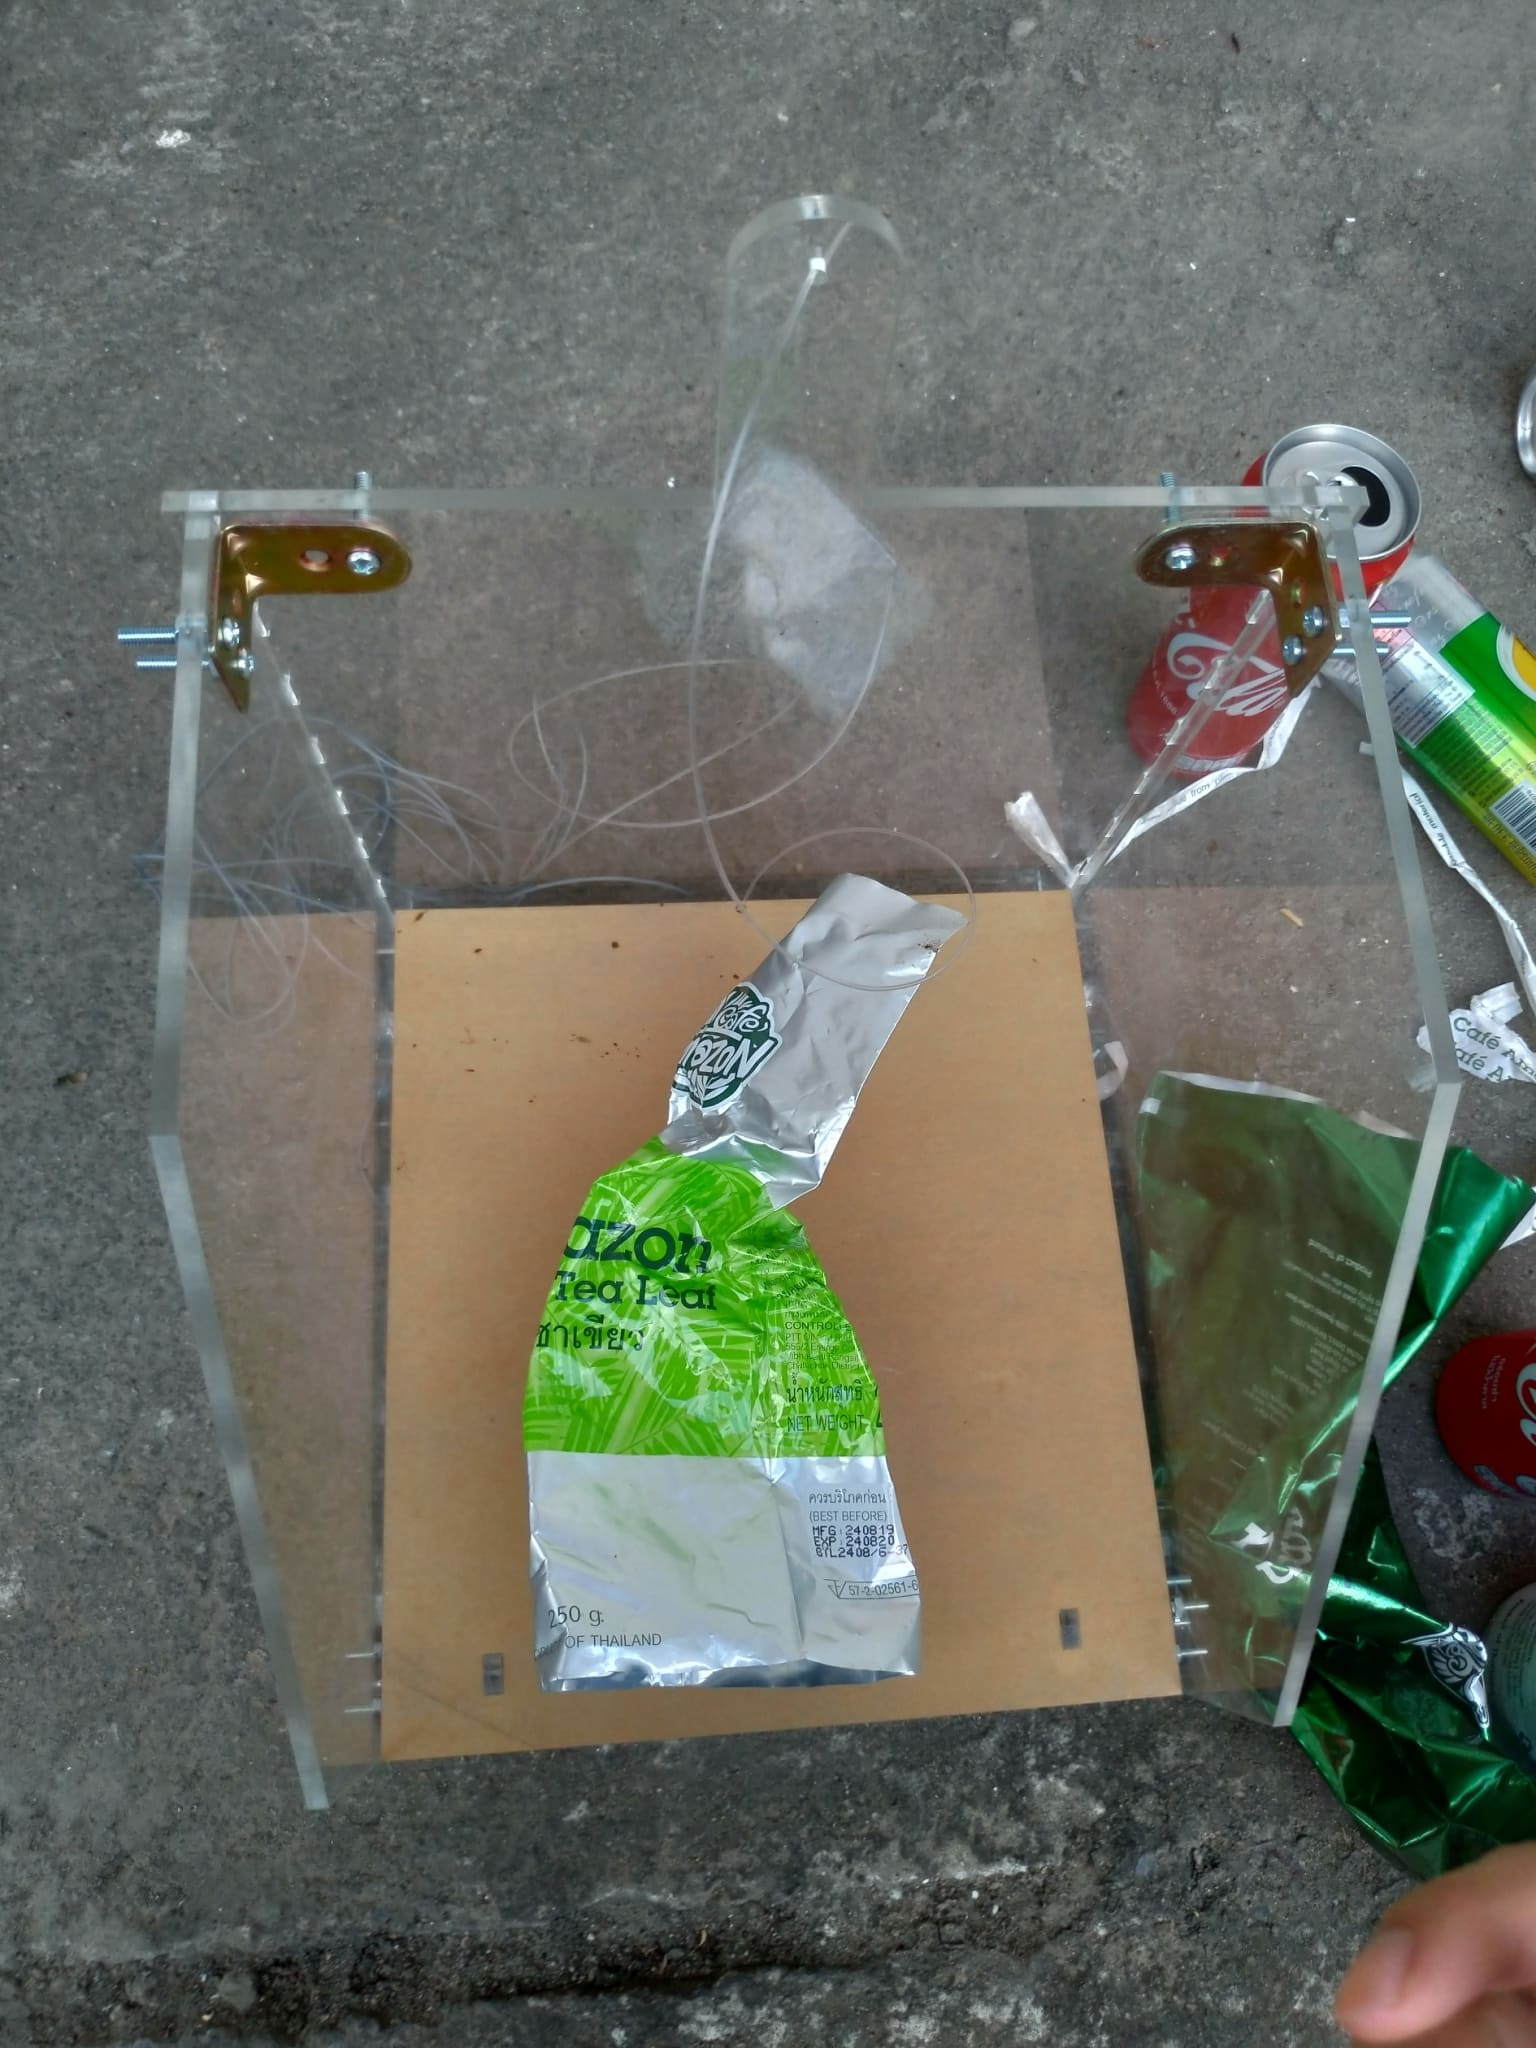AlCan: (1125, 419, 1410, 768), (1354, 542, 1536, 874), (1433, 1334, 1536, 1492)
Others: (520, 855, 954, 1677), (1137, 1061, 1536, 1845)
